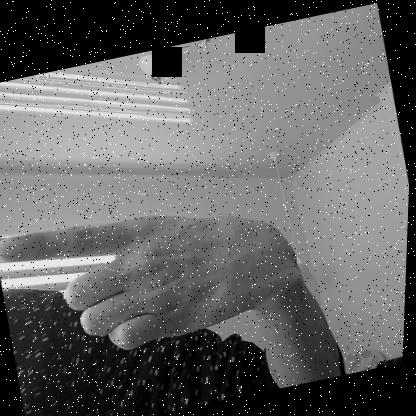G: (0, 178, 308, 370)
